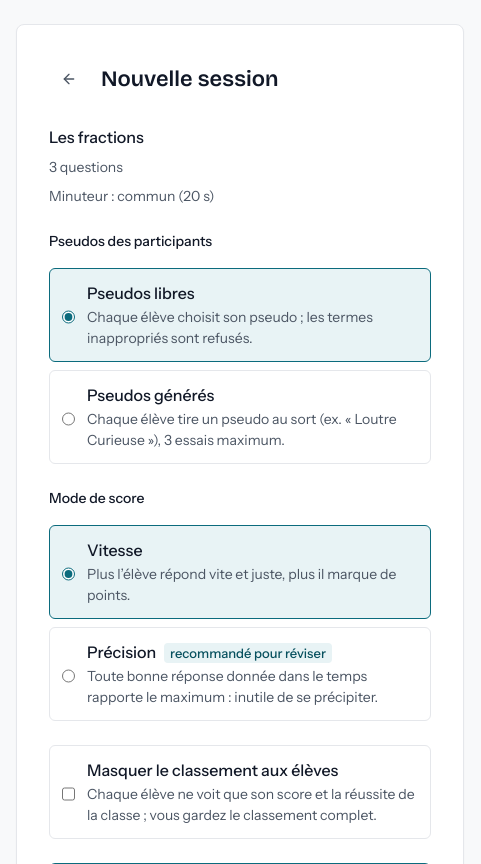
Nouvelle session : mode des pseudos › envoie nicknameMode: "generated" à la création
Step 1. Click the radio button labelled "Pseudos générés" → (68, 419), box x1=62 y1=387 x2=75 y2=451
(page scrolled)
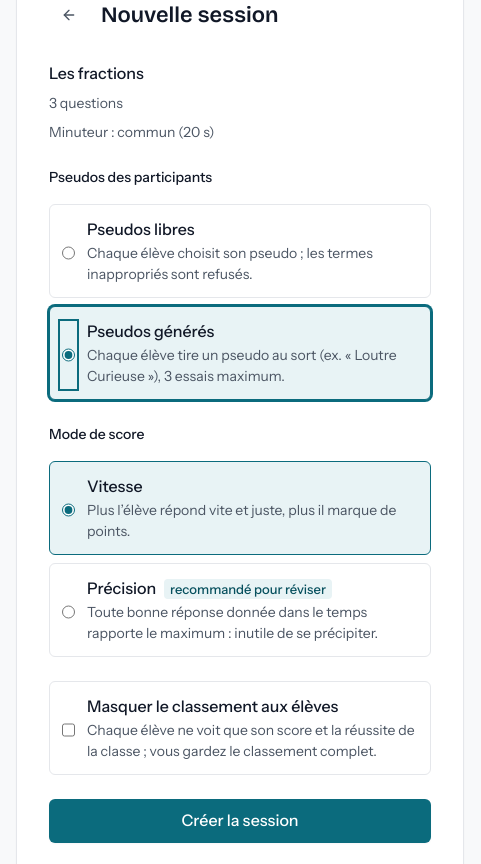
Step 2. Click the button "Créer la session" → (240, 821), box x1=49 y1=799 x2=431 y2=843
(page scrolled)
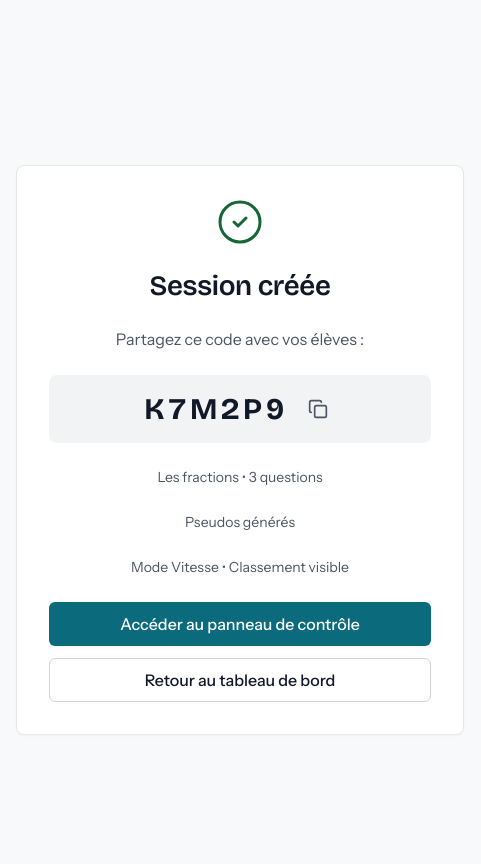
Check: the text "Pseudos générés" is shown, box x1=185 y1=513 x2=295 y2=531
